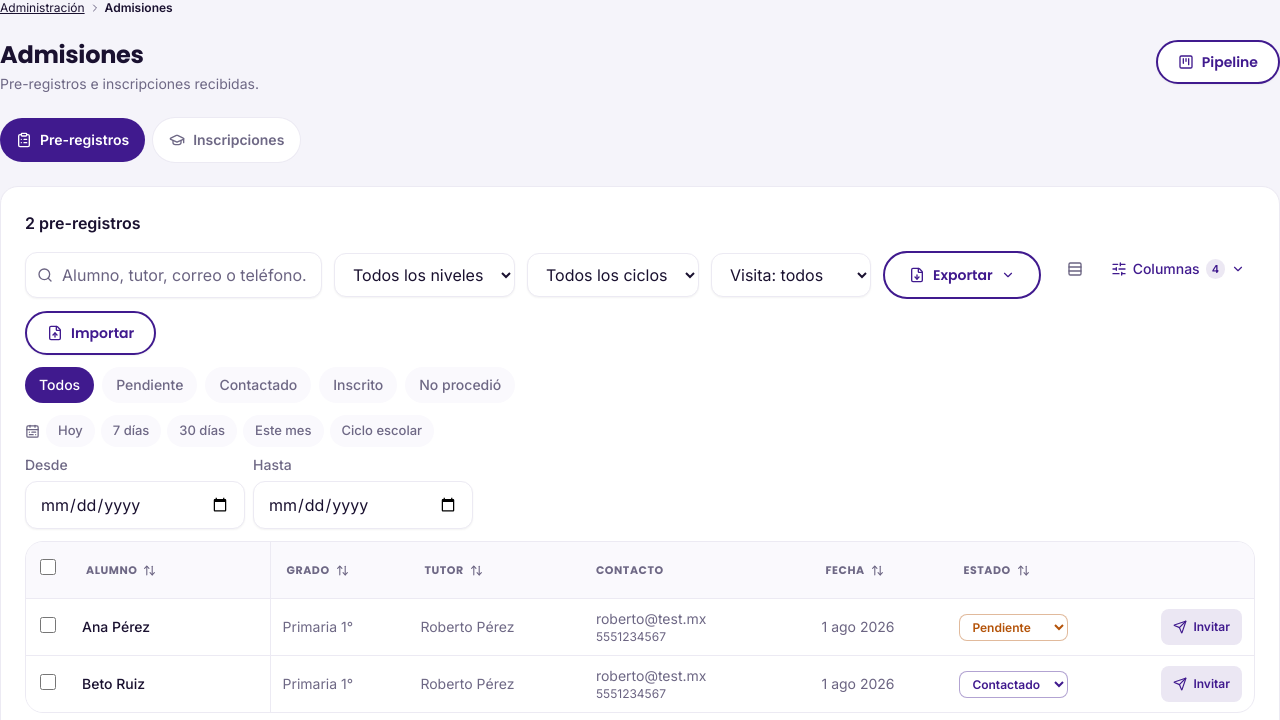
Test: AdminAdmissions › pre-registros has no serious/critical axe violations
Expected: the text "Ana Pérez" is shown, 70,598 -> 270,656
Click the checkbox named "Seleccionar pre-registro de Ana Pérez" at (48, 624), box 40,616 -> 56,632
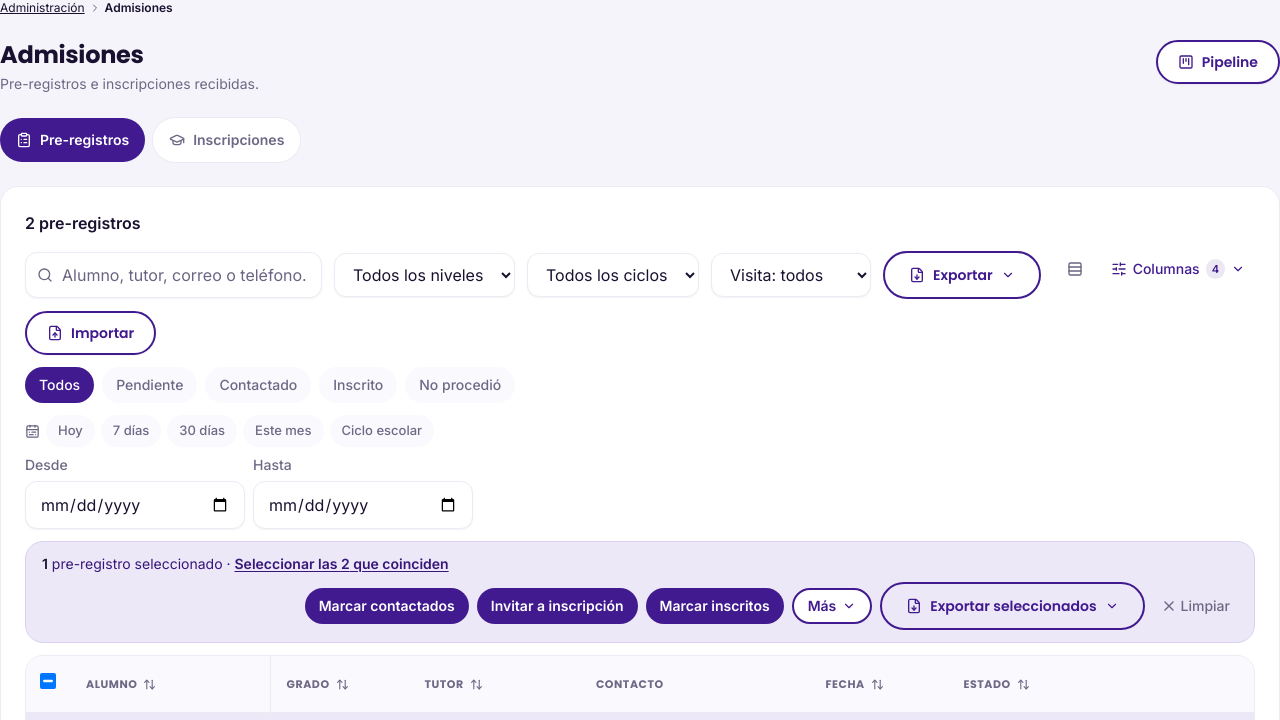
Result: the element named "Acciones en lote" is shown at 25,541 -> 1255,643
